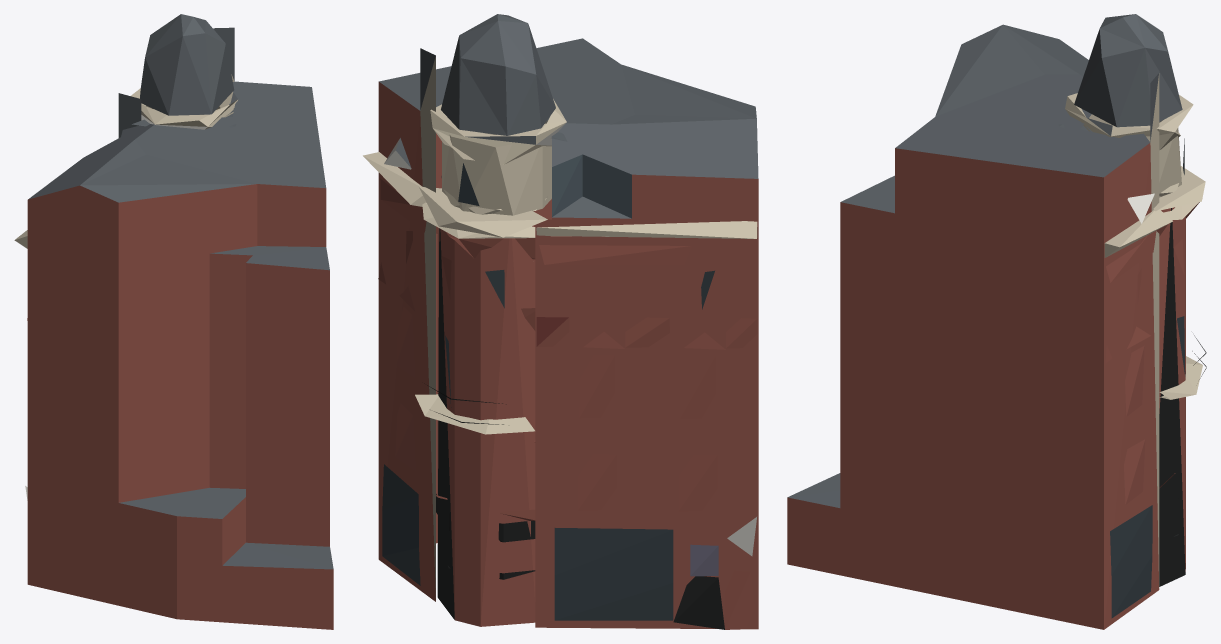
The model's file is koningsplein-1.lod2.glb.
3 renders of one model, left to right at view 1: azimuth 30°, elevation 25°; view 2: azimuth 150°, elevation 25°; view 3: azimuth 270°, elevation 25°, orthographic. The views are drawn at different scales.
Parts seen in each view (by area): view 1: lod2; view 2: lod2; view 3: lod2.
Part boxes in pixels (x1,y1,x2,y2): lod2: [14, 14, 333, 629]; lod2: [363, 14, 758, 629]; lod2: [787, 14, 1206, 629].
Size of the model in its own units: 16.6 by 24.98 by 17.17.
